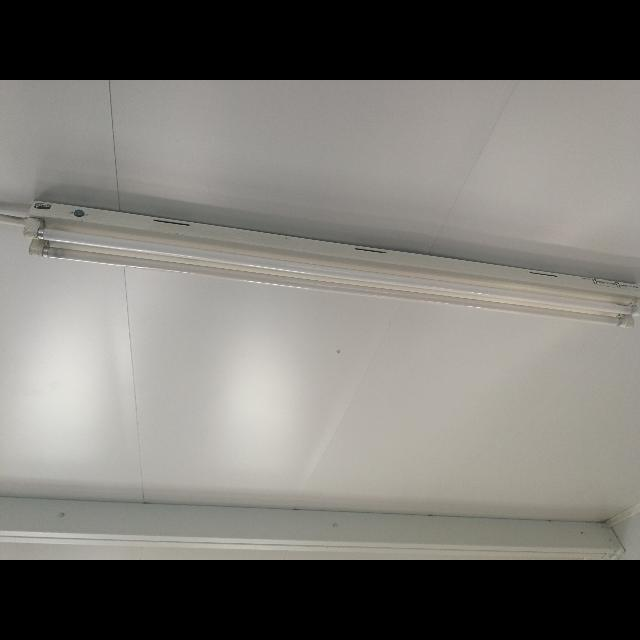Straight-Tube-Fluorescent-Lamp: (20, 193, 640, 359)
